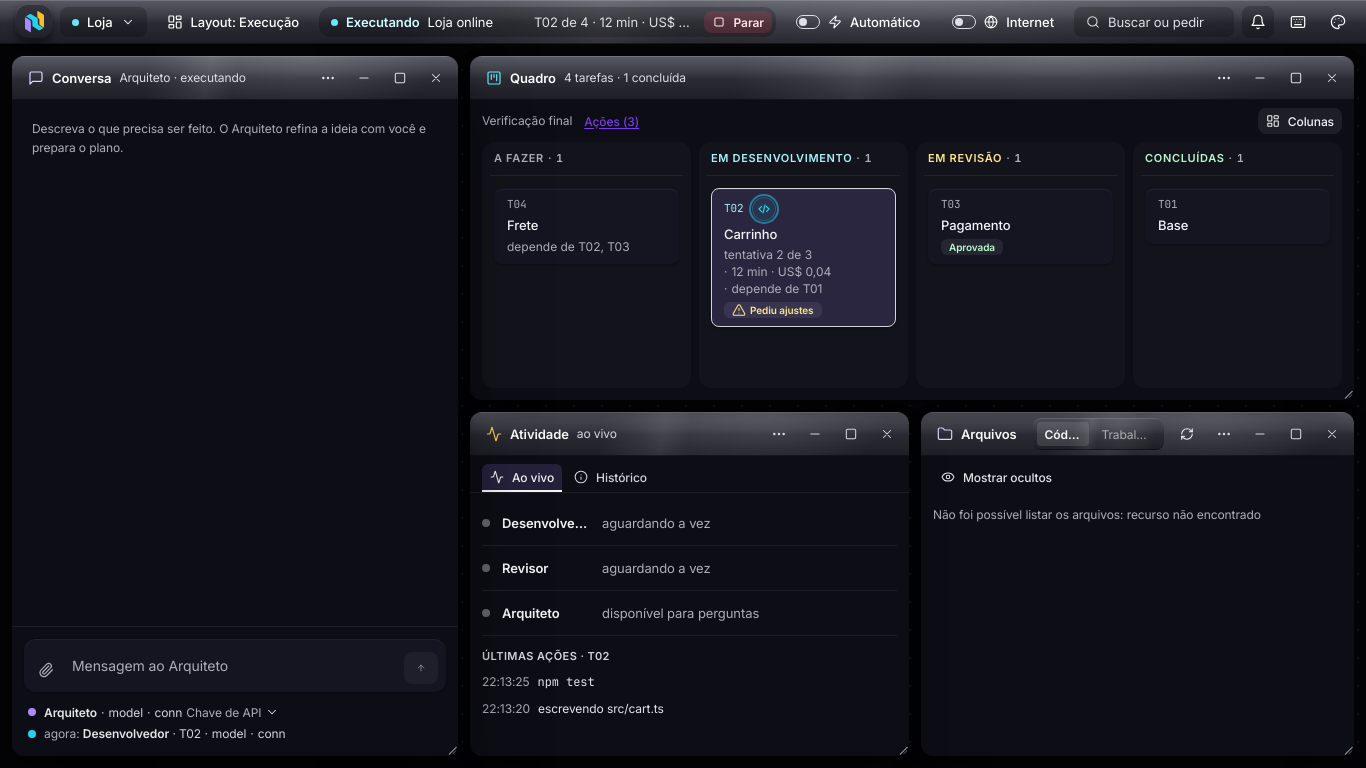
Test case: Quadro: Ações (N) e a verificação final › 'Ações da verificação final' abre a trilha FINAL; sem ações, não há link
Step 1. Click the button with aria-label "Ações (3) da verificação final" → (612, 121), box [580,109,643,133]
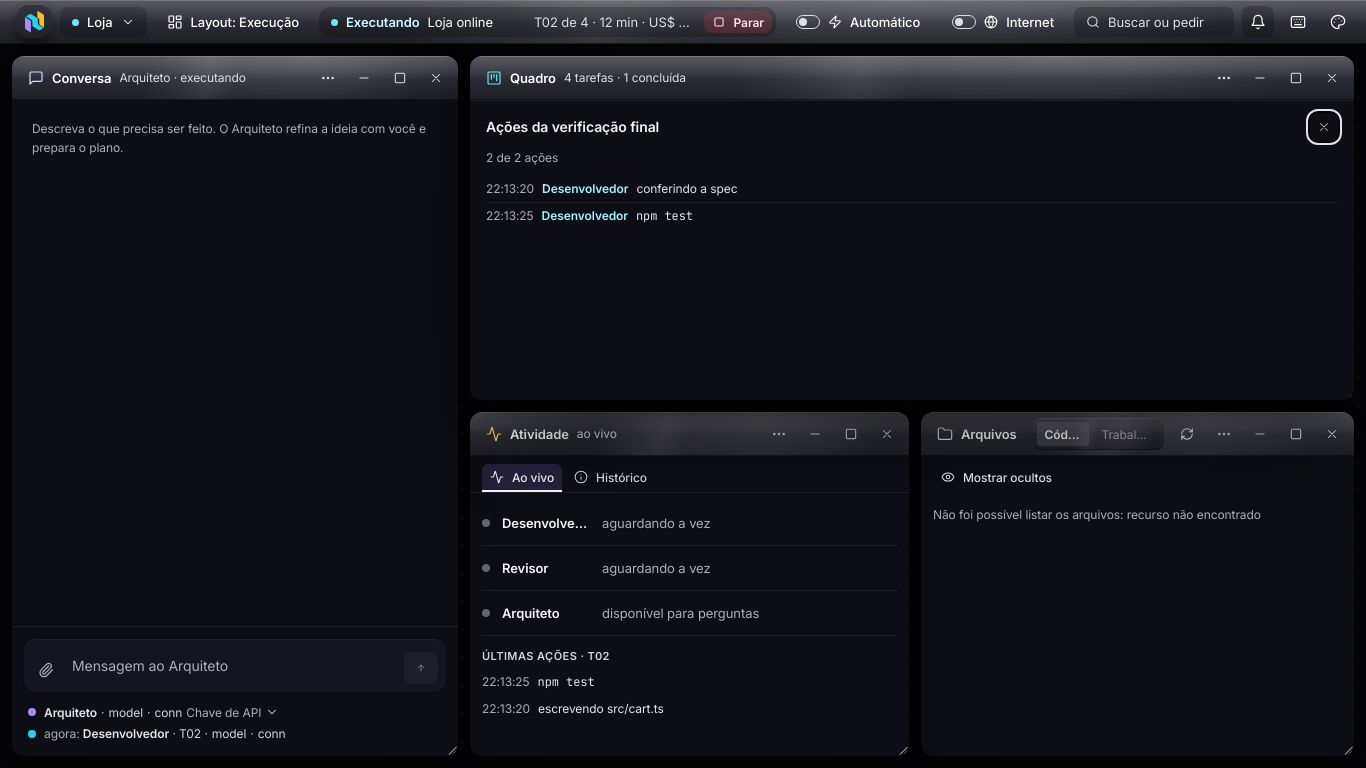
Check: the dialog "Ações da verificação final" shows "conferindo a spec", box [636,181,737,196]
Step 2. Click the button named "Fechar" in the row of "Ações da verificação final" → (1324, 127), box [1310,113,1338,141]
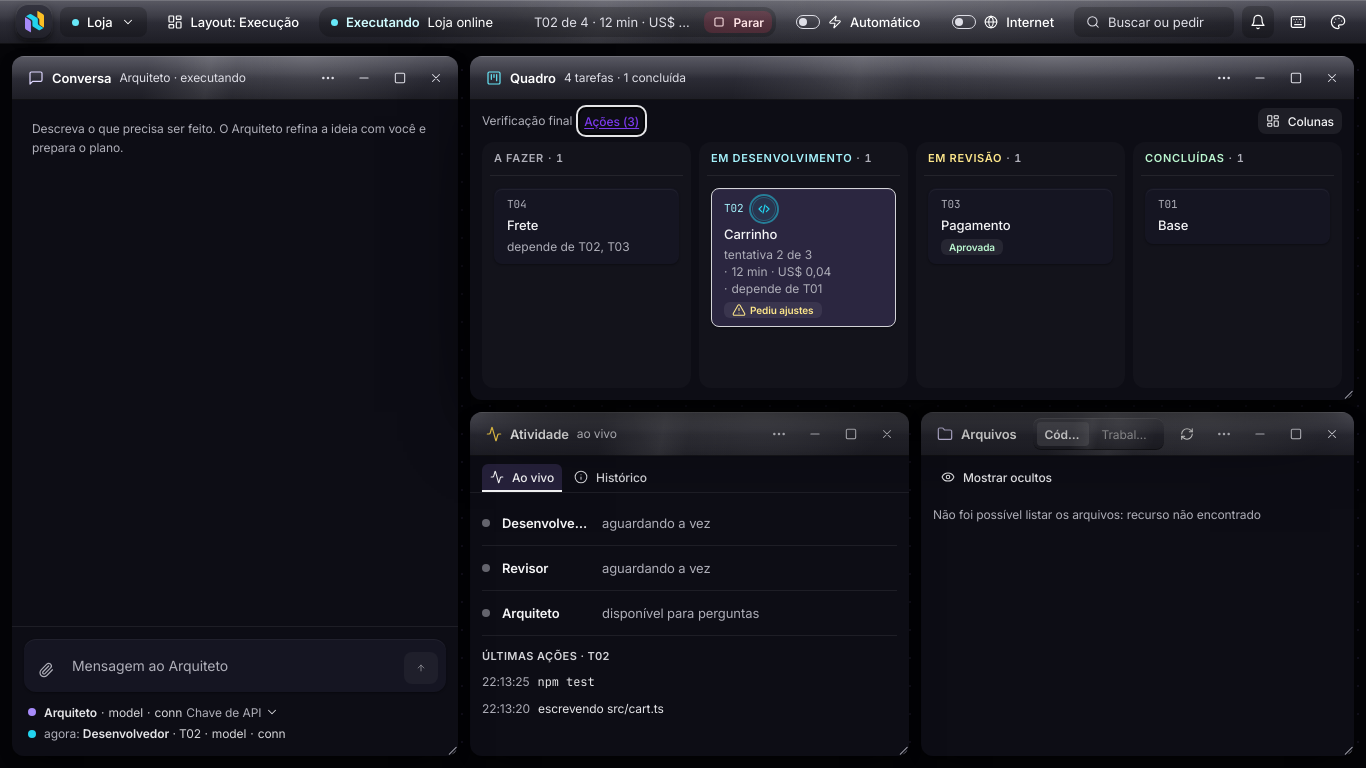
Check: the dialog is gone
